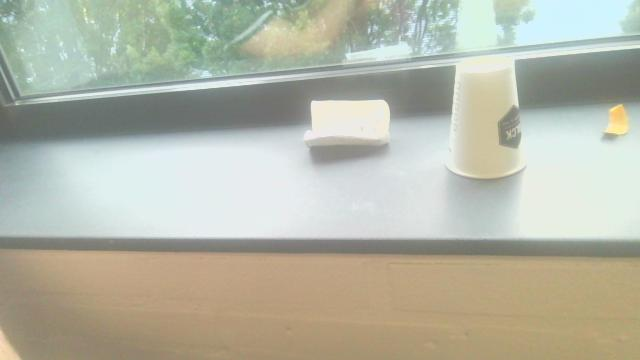cup: (440, 54, 534, 183), (298, 97, 398, 149)
